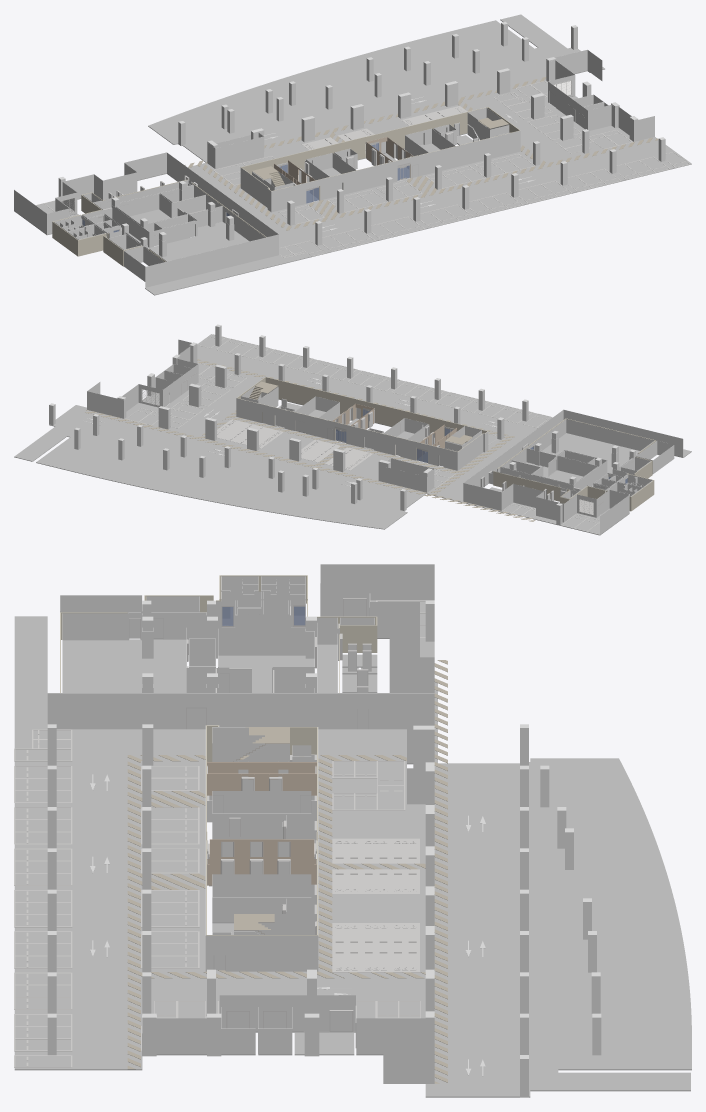
3 views of the same model, one above another, from view 1: azimuth 30°, elevation 25°; view 2: azimuth 150°, elevation 25°; view 3: azimuth 270°, elevation 25° (orthographic). The views are drawn at different scales.
Parts seen in each view (by area): view 1: A8_B3F_Out_Floor, A8_B3F_Out_Wall, A8_B3F_Wall, A8_B3F_Pillar, A8_B3F_Parking Line, A8_B3F_Mark, A8_B3F_Floor, A8_B3F_Door, A8_B3F_Disabled Parking Line, A8_B3F_Stairs, A8_B3F_Slide Glass Door, A8_B3F_Elev; view 2: A8_B3F_Out_Floor, A8_B3F_Out_Wall, A8_B3F_Wall, A8_B3F_Pillar, A8_B3F_Mark, A8_B3F_Floor, A8_B3F_Parking Line, A8_B3F_Disabled Parking Line, A8_B3F_Door, A8_B3F_Slide Glass Door, A8_B3F_Stairs, A8_B3F_Vent (+1 smaller); view 3: A8_B3F_Out_Floor, A8_B3F_Wall, A8_B3F_Out_Wall, A8_B3F_Pillar, A8_B3F_Floor, A8_B3F_Mark, A8_B3F_Disabled Parking Line, A8_B3F_Parking Line, A8_B3F_Door, A8_B3F_Elev, A8_B3F_Stairs.
Boxes of the visible parts, bbox=[...] form: A8_B3F_Out_Floor: bbox=[14, 14, 691, 295]; A8_B3F_Out_Wall: bbox=[14, 49, 654, 287]; A8_B3F_Wall: bbox=[52, 94, 608, 281]; A8_B3F_Pillar: bbox=[58, 21, 665, 257]; A8_B3F_Parking Line: bbox=[35, 81, 689, 258]; A8_B3F_Mark: bbox=[153, 67, 658, 231]; A8_B3F_Floor: bbox=[69, 96, 578, 261]; A8_B3F_Door: bbox=[56, 91, 585, 264]; A8_B3F_Disabled Parking Line: bbox=[301, 106, 467, 153]; A8_B3F_Stairs: bbox=[252, 117, 508, 186]; A8_B3F_Slide Glass Door: bbox=[274, 141, 409, 203]; A8_B3F_Elev: bbox=[299, 132, 453, 183]; A8_B3F_Out_Floor: bbox=[14, 334, 691, 535]; A8_B3F_Out_Wall: bbox=[87, 339, 683, 534]; A8_B3F_Wall: bbox=[155, 364, 674, 511]; A8_B3F_Pillar: bbox=[49, 324, 635, 525]; A8_B3F_Mark: bbox=[83, 359, 535, 521]; A8_B3F_Floor: bbox=[142, 392, 639, 502]; A8_B3F_Parking Line: bbox=[126, 334, 599, 534]; A8_B3F_Disabled Parking Line: bbox=[217, 419, 372, 470]; A8_B3F_Door: bbox=[164, 373, 633, 516]; A8_B3F_Slide Glass Door: bbox=[335, 408, 456, 462]; A8_B3F_Stairs: bbox=[249, 381, 472, 444]; A8_B3F_Vent: bbox=[142, 389, 593, 515]; A8_B3F_Out_Floor: bbox=[14, 600, 691, 1097]; A8_B3F_Wall: bbox=[60, 575, 377, 1054]; A8_B3F_Out_Wall: bbox=[47, 564, 434, 1083]; A8_B3F_Pillar: bbox=[47, 600, 601, 1097]; A8_B3F_Floor: bbox=[62, 607, 377, 1055]; A8_B3F_Mark: bbox=[90, 660, 485, 1083]; A8_B3F_Disabled Parking Line: bbox=[332, 838, 419, 972]; A8_B3F_Parking Line: bbox=[14, 600, 425, 1067]; A8_B3F_Door: bbox=[129, 598, 371, 1031]; A8_B3F_Elev: bbox=[220, 777, 290, 913]; A8_B3F_Stairs: bbox=[233, 727, 289, 934].
Bounding box in the file's own units: 104 × 4.05 × 60.29.
